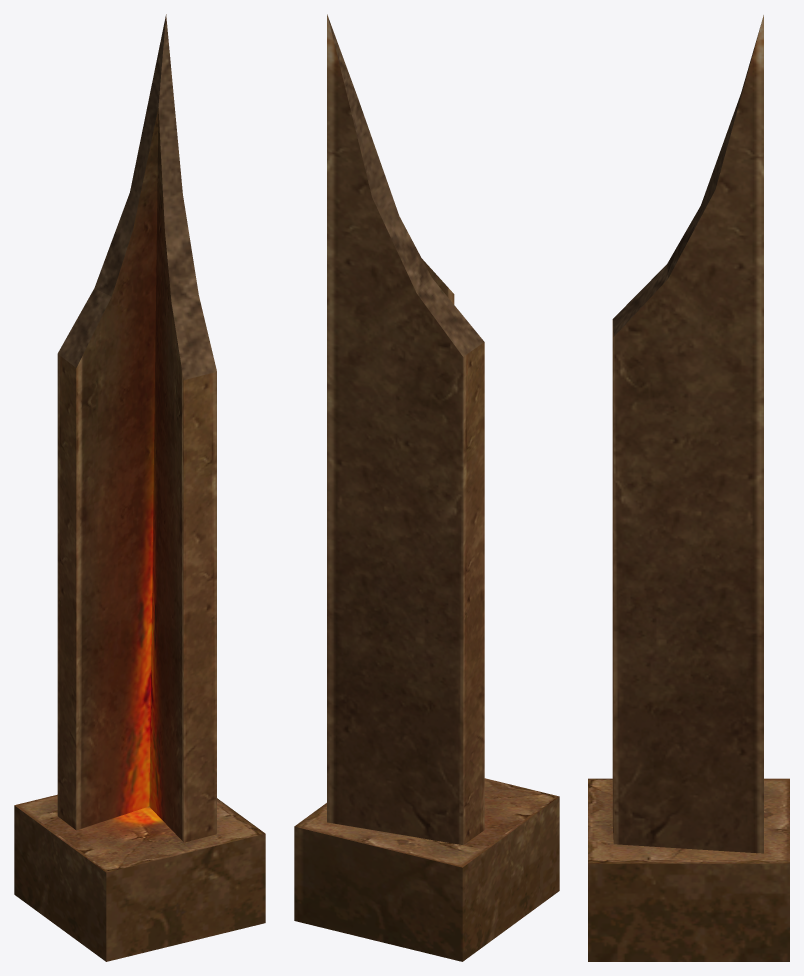
The model's file is Scene_shizhu_002.FBX.
3 views of the same model, side by side, from view 1: azimuth 30°, elevation 25°; view 2: azimuth 150°, elevation 25°; view 3: azimuth 270°, elevation 25° (orthographic). The views are drawn at different scales.
Parts seen in each view (by area): view 1: Scene_shizhu_002; view 2: Scene_shizhu_002; view 3: Scene_shizhu_002.
Boxes of the visible parts, x1,y1,x2,y2 form: Scene_shizhu_002: (14, 14, 265, 961); Scene_shizhu_002: (294, 14, 559, 961); Scene_shizhu_002: (588, 15, 789, 961).
Bounding box in the file's own units: 2.04 × 10.44 × 2.04.
